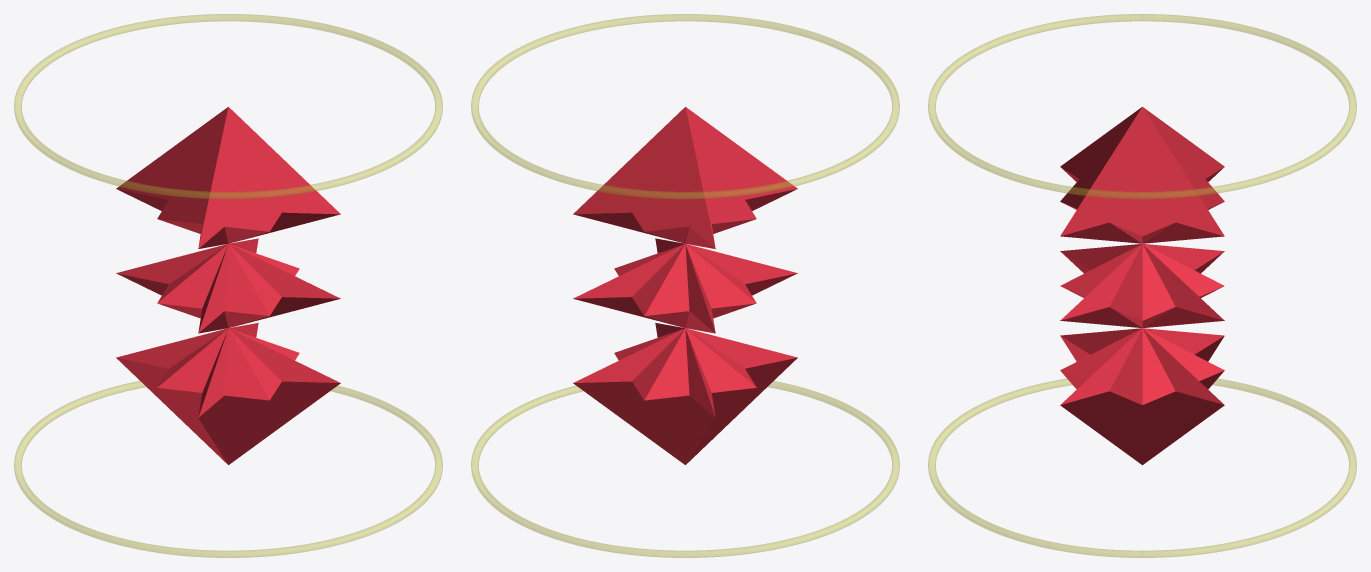
The model's file is Totem.fbx.
3 renders of one model, left to right at view 1: azimuth 30°, elevation 25°; view 2: azimuth 150°, elevation 25°; view 3: azimuth 270°, elevation 25°, orthographic.
Parts seen in each view (by area): view 1: 立方体, Circle, Circle.001; view 2: 立方体, Circle, Circle.001; view 3: 立方体, Circle, Circle.001.
Boxes of the visible parts, box(x1,y1,x2,y2) form: 立方体: box(116, 107, 340, 464); Circle: box(14, 14, 442, 198); Circle.001: box(14, 381, 442, 557); 立方体: box(573, 107, 797, 464); Circle: box(471, 14, 899, 198); Circle.001: box(471, 381, 899, 557); 立方体: box(1060, 107, 1224, 464); Circle: box(928, 14, 1356, 199); Circle.001: box(928, 379, 1356, 557).
Bounding box in the file's own units: 13 × 12.2 × 13.
